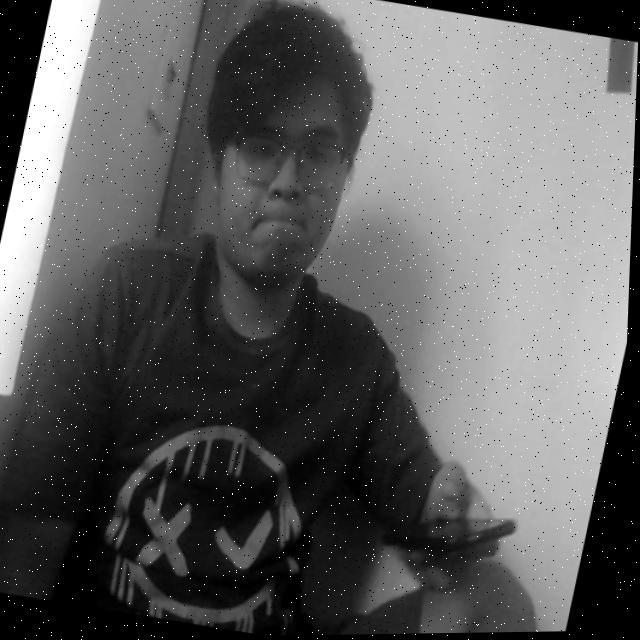phone: (403, 483, 541, 596)
